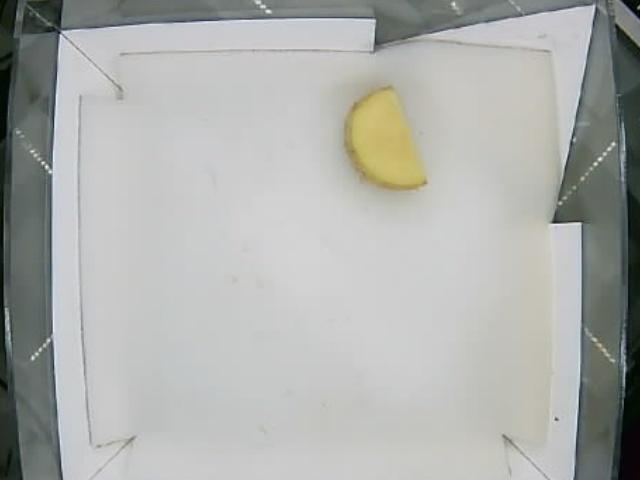Potato: (347, 86, 427, 190)
